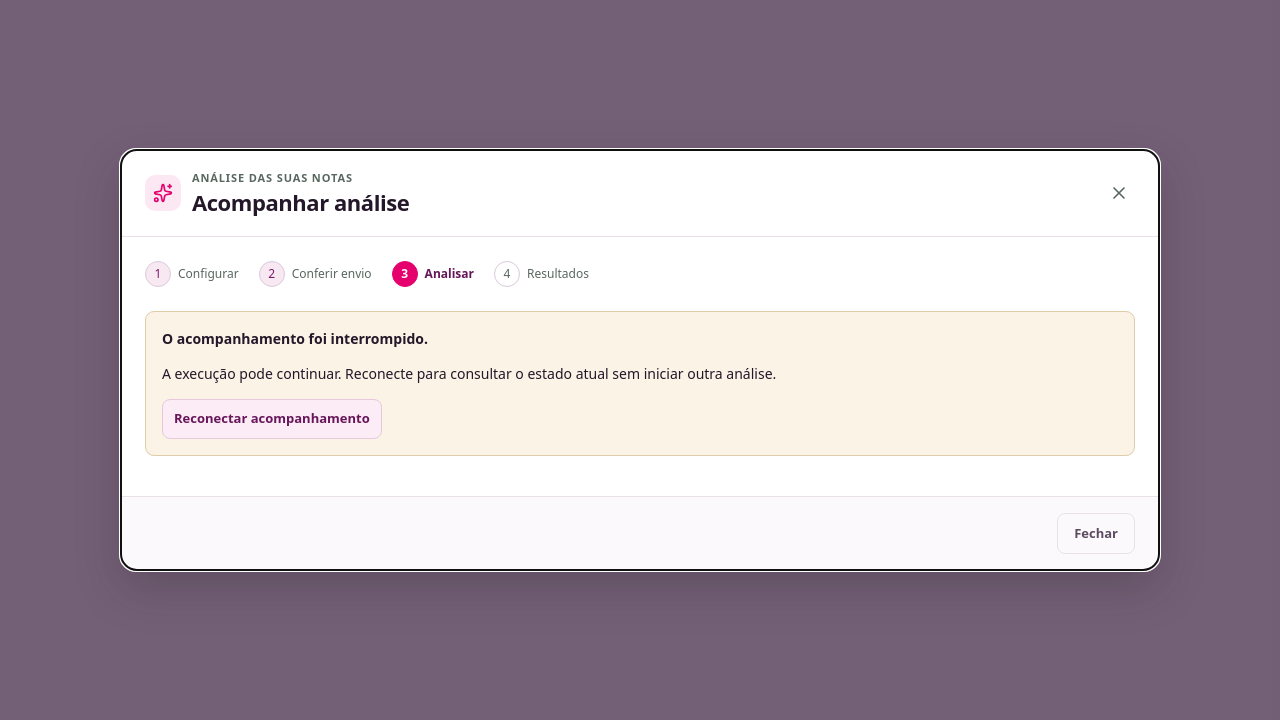
Test: analysis decisions and recovery › reconnects a failed initial stream without starting another analysis
Click the button "Reconectar acompanhamento" at (272,419), box [162,399,382,439]
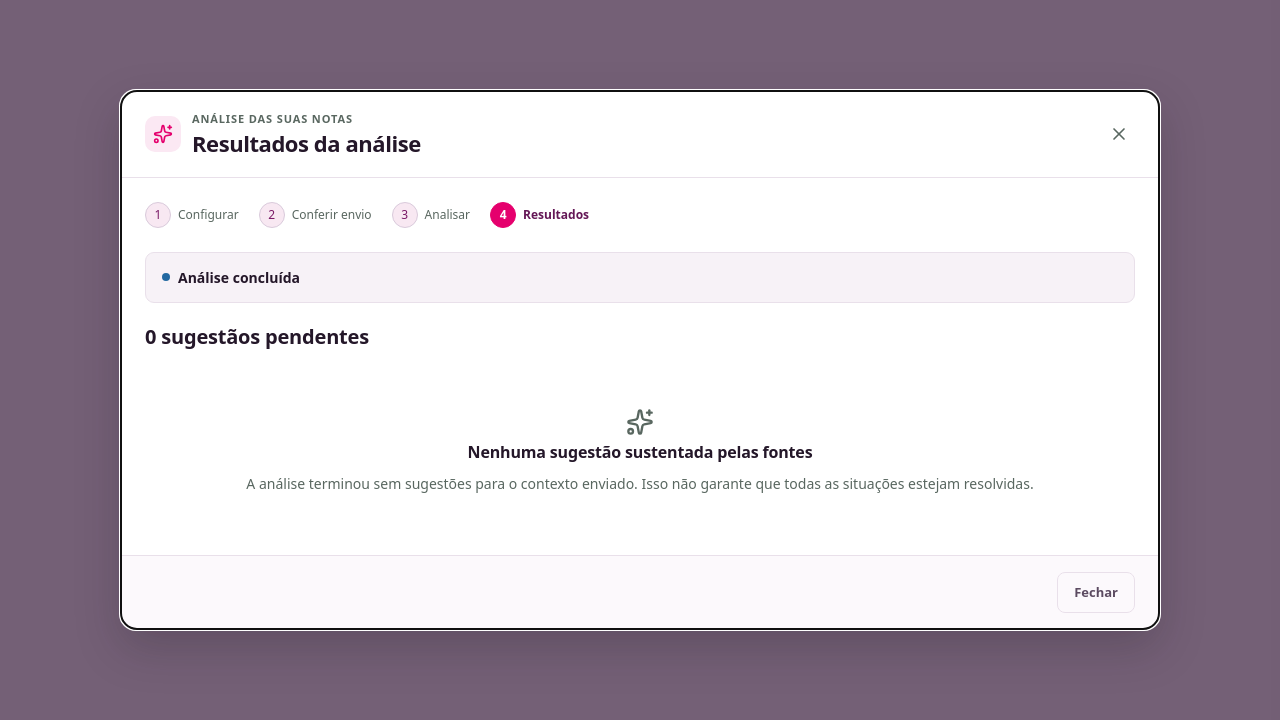
Check: the heading "Nenhuma sugestão sustentada pelas fontes" is shown, box [468,441,812,463]
